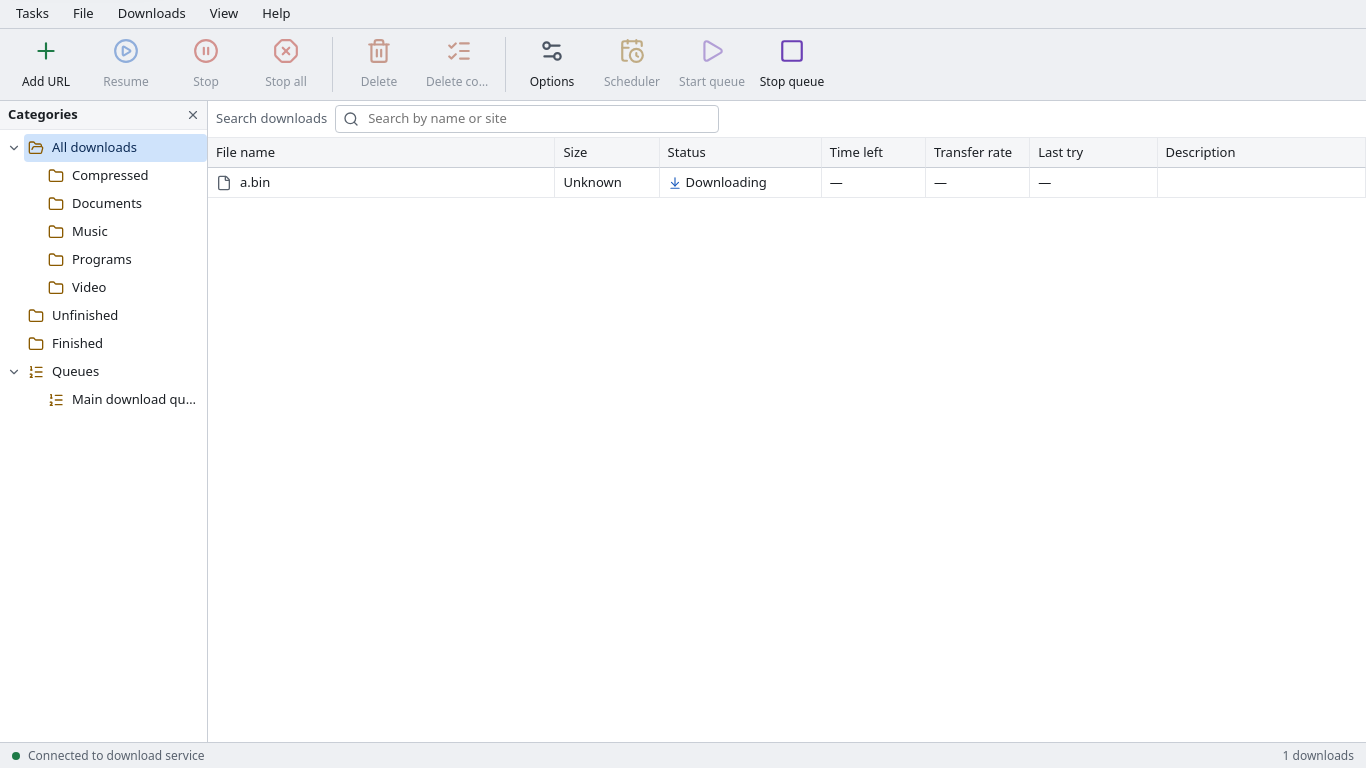
Scenario: lifecycle (ARCH-09) › does not reconnect after Exit and stop downloads
Expected: the button "a.bin" is shown, x1=216 y1=173 x2=546 y2=192
Click the menu item "Tasks". click: (32, 14)
box: x1=4 y1=0 x2=61 y2=28
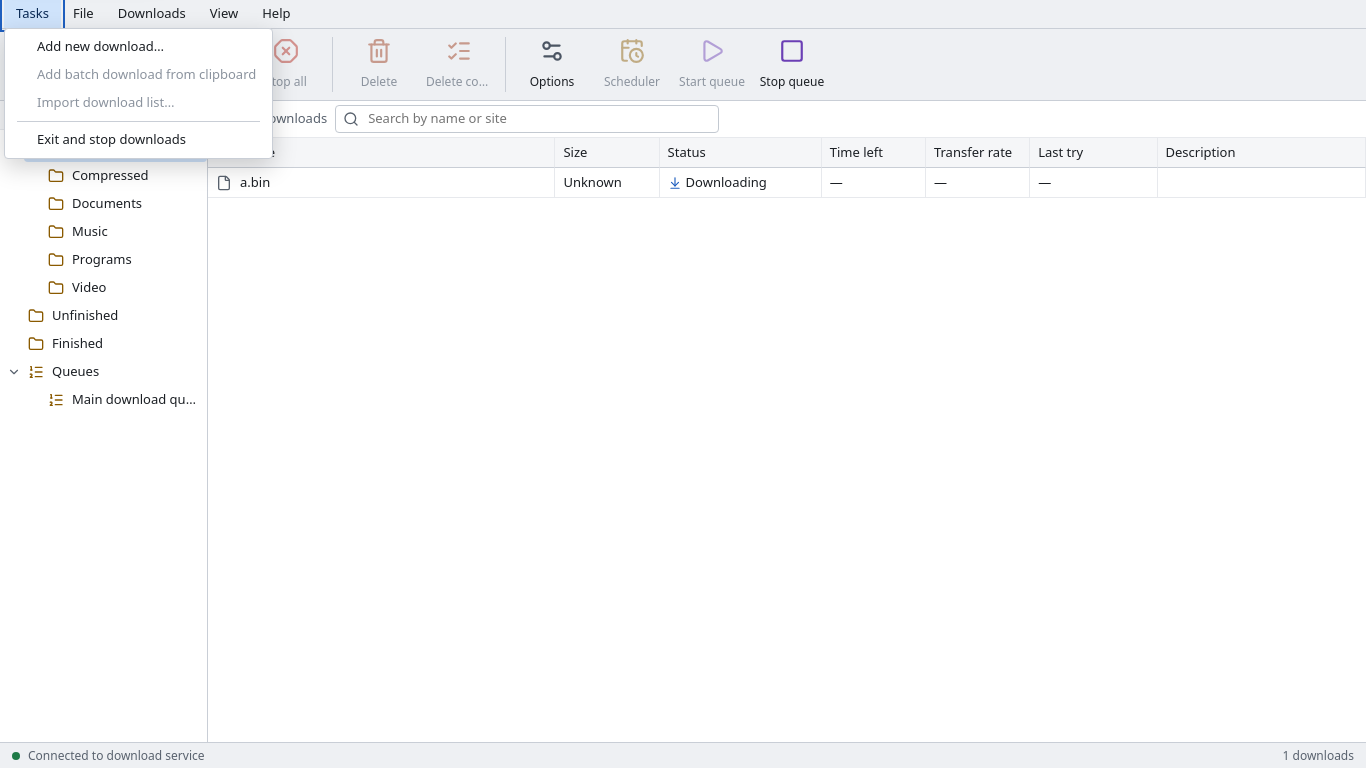
Click the menu item "Exit and stop downloads". click: (139, 140)
box: x1=9 y1=126 x2=268 y2=154
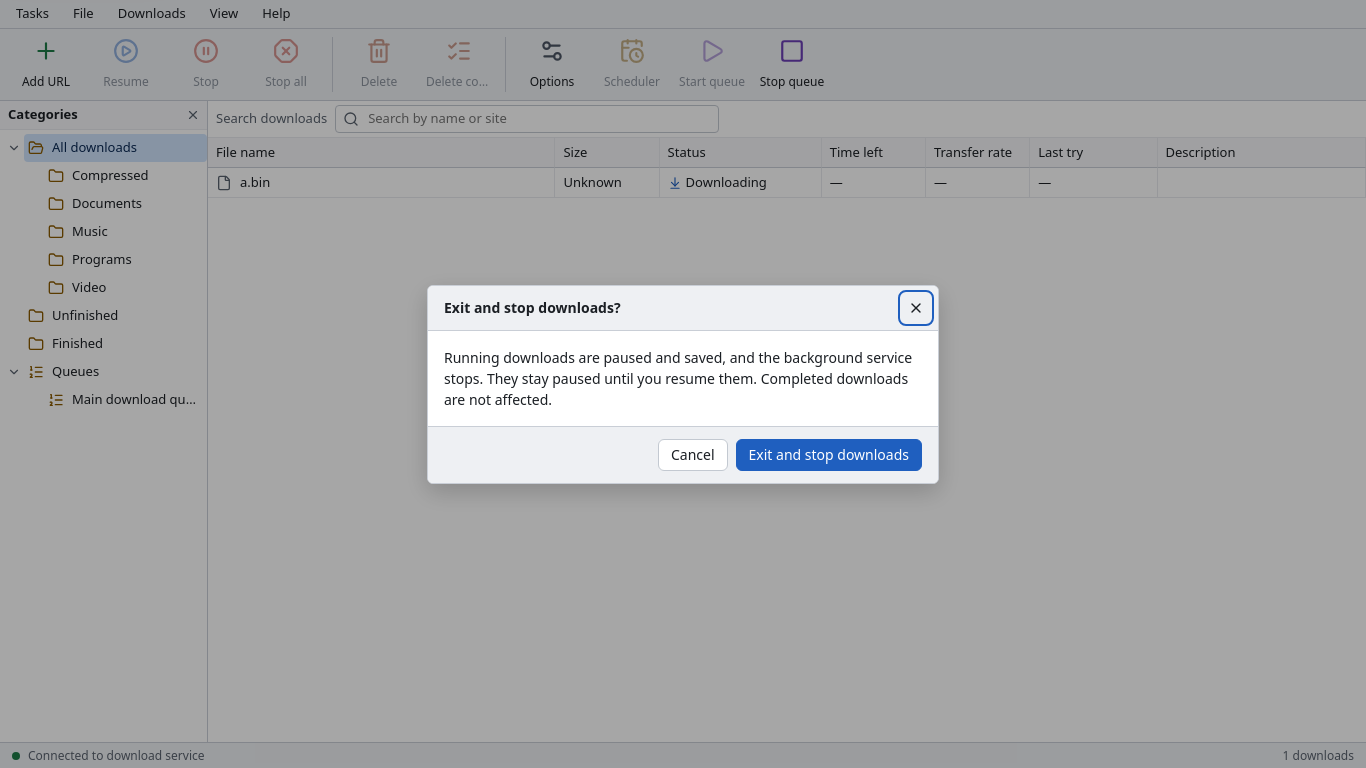
Click the button "Exit and stop downloads". click: (829, 454)
box: x1=736 y1=438 x2=922 y2=470
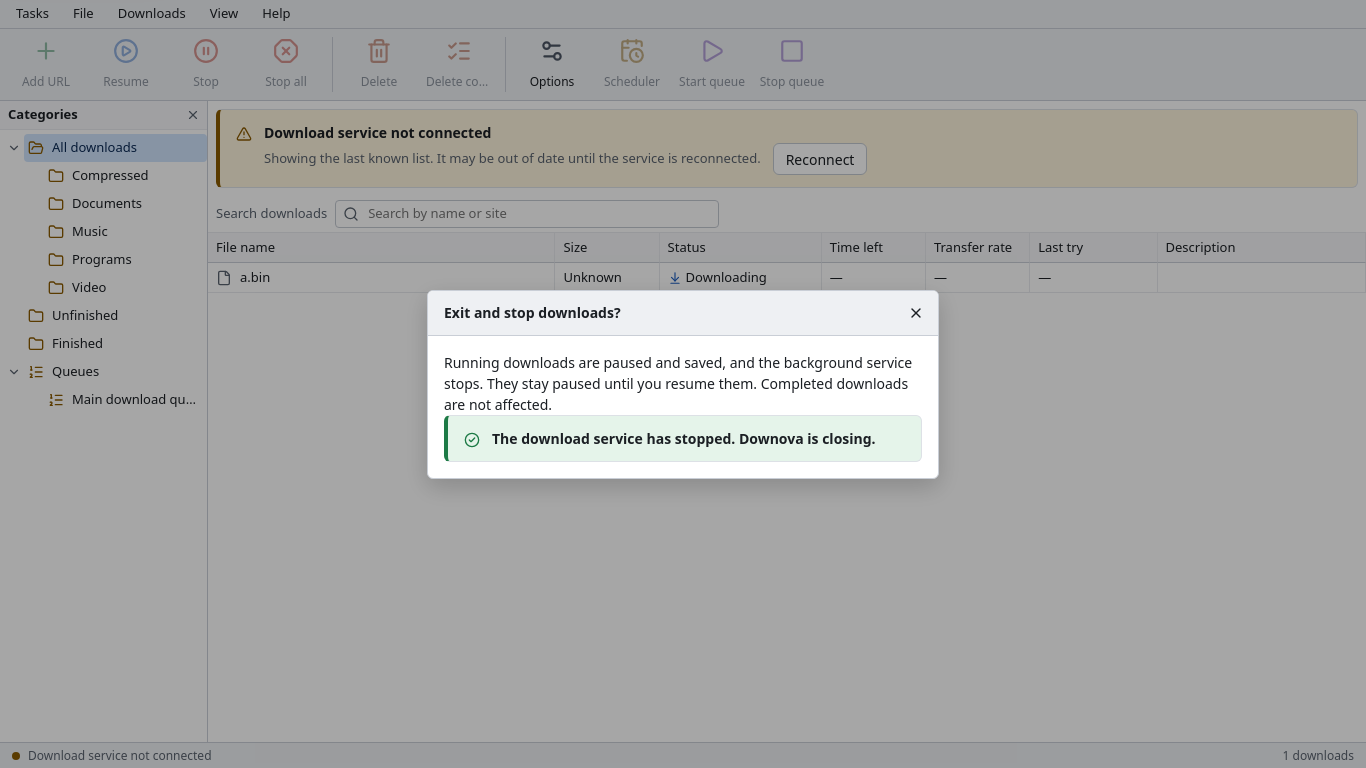
Expected: the heading "The download service has stopped. Downova is closing." is shown, x1=492 y1=428 x2=876 y2=448
